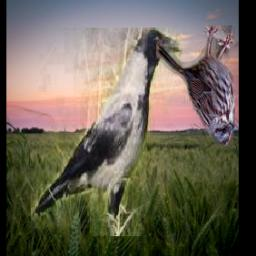Crow: (32, 28, 183, 236)
Sparrow: (157, 27, 236, 147)
